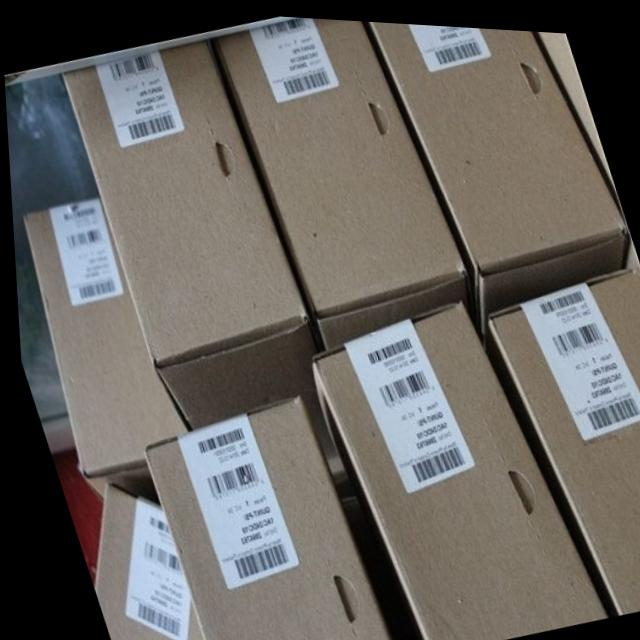box: (307, 297, 601, 640), (59, 36, 312, 429), (212, 14, 467, 345), (369, 17, 626, 310), (137, 395, 383, 640), (480, 253, 640, 608), (19, 197, 185, 498), (87, 485, 198, 640)
